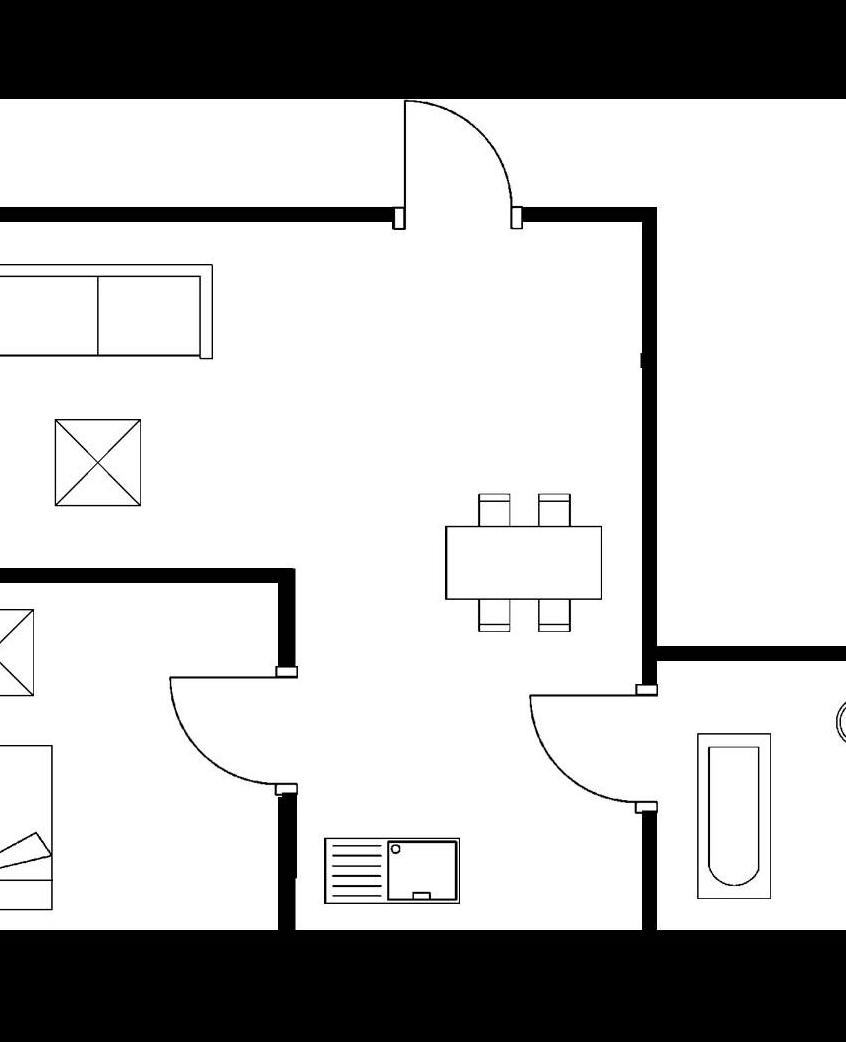bed: (0, 739, 58, 918)
dining_table: (438, 488, 608, 639)
sink: (317, 830, 466, 910)
sofa: (0, 256, 222, 364)
toilet: (829, 682, 846, 762)
tub: (691, 726, 781, 906)
